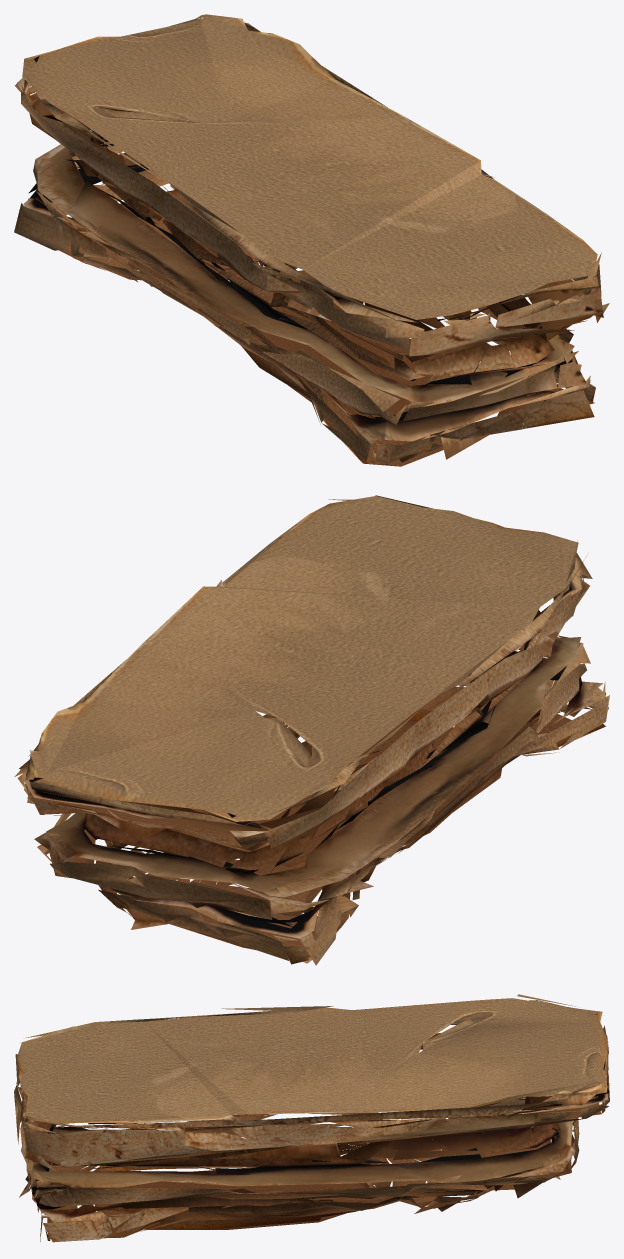
The model's file is desert_ledge_a_single_lod1.glb.
3 views of the same model, one above another, from view 1: azimuth 30°, elevation 25°; view 2: azimuth 150°, elevation 25°; view 3: azimuth 270°, elevation 25° (orthographic). The views are drawn at different scales.
Parts seen in each view (by area): view 1: desert_ledge_a_single.001; view 2: desert_ledge_a_single.001; view 3: desert_ledge_a_single.001.
Part boxes in pixels (<box>): desert_ledge_a_single.001: <box>14,14,609,466</box>; desert_ledge_a_single.001: <box>14,495,609,965</box>; desert_ledge_a_single.001: <box>14,994,609,1242</box>.
Size of the model in its own units: 1.85 by 1.06 by 3.82.
Materials: 1 (1 with a texture image).
